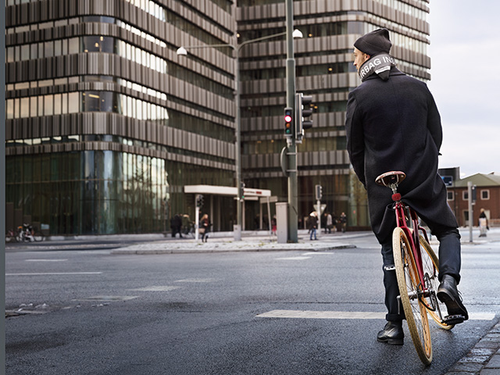bikerider: (327, 17, 489, 375)
